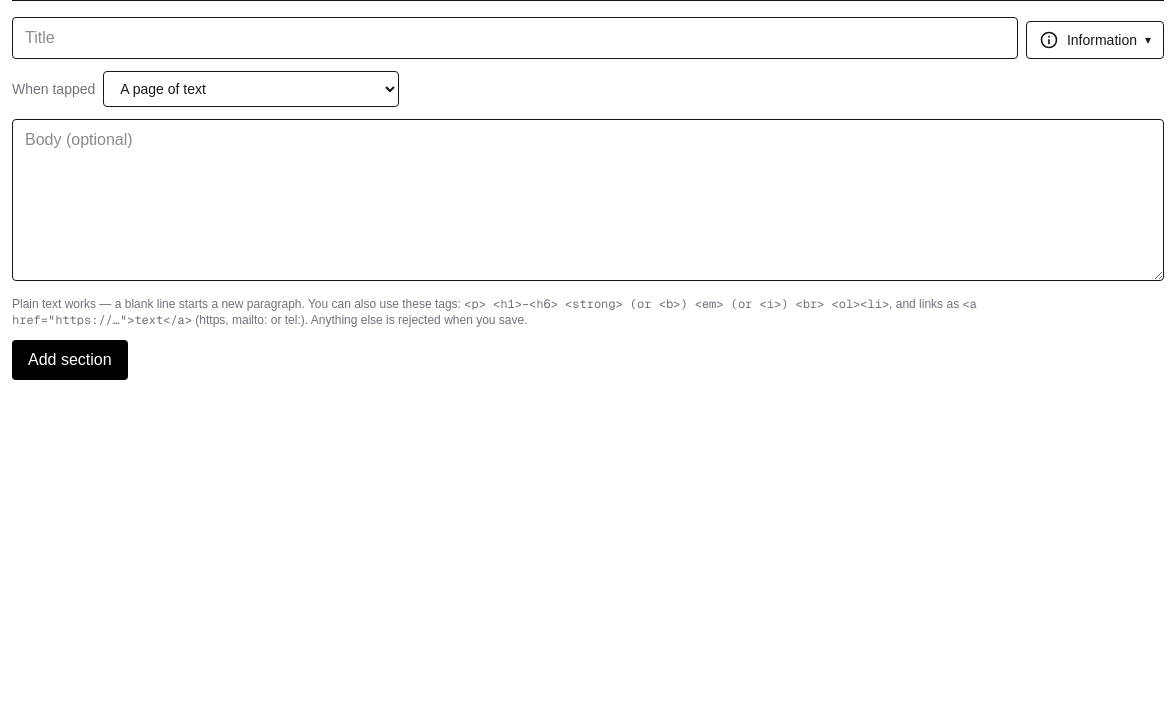
Test: question containers › a blank question shows a placeholder title
Select "A Q&A page (questions and answers)" in the dropdown labelled "When tapped" at point(251, 89), box [103,71,399,107]
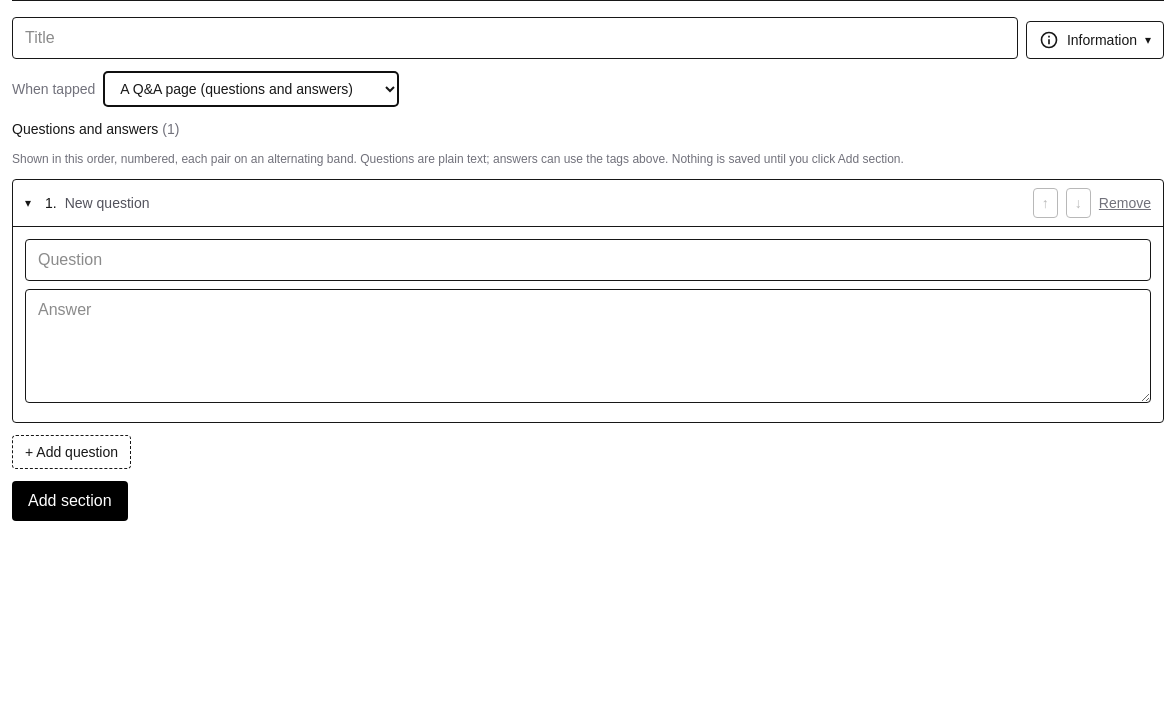
Expected: the text "New question" is shown, [65,193,150,213]
